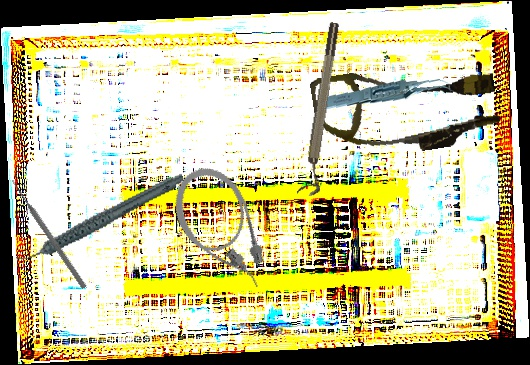Cannula: (309, 51, 503, 167), (161, 156, 280, 306)
Fixation Ring: (296, 21, 350, 198)
Handpiece: (5, 171, 194, 264)
Pusher: (9, 178, 88, 290)
Tissue Forceps: (321, 69, 455, 121)
